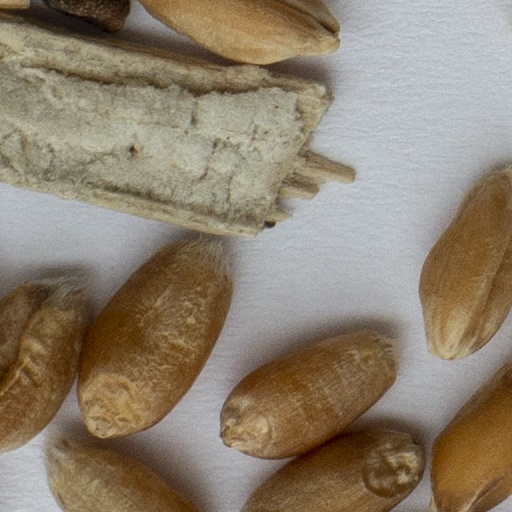Peel-poly: (0, 21, 352, 235)
